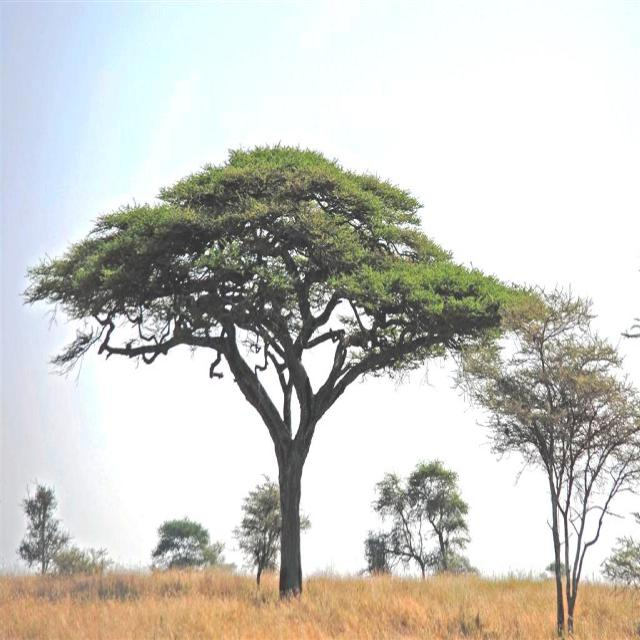Acacia: (39, 130, 523, 560)
